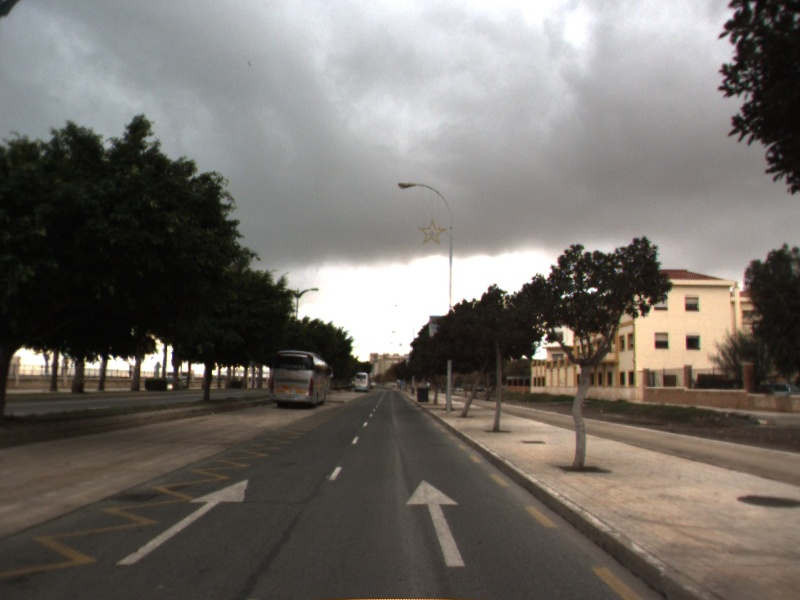STRAIGHT: (113, 476, 251, 568), (404, 476, 468, 569)
